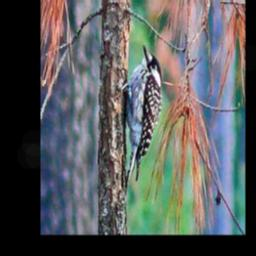Woodpecker: (110, 36, 168, 199)
